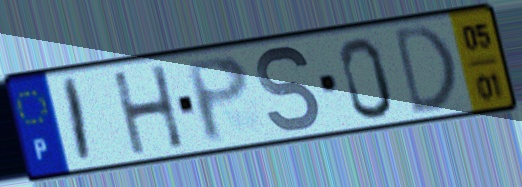0: (335, 33, 398, 122)
D: (390, 20, 461, 120)
H: (108, 61, 189, 159)
I: (62, 75, 95, 168)
P: (181, 51, 253, 147)
S: (254, 43, 324, 135)
